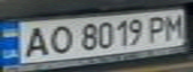0: (96, 19, 115, 49)
1: (112, 17, 133, 47)
8: (75, 20, 100, 52)
9: (127, 16, 148, 46)
A: (18, 24, 54, 58)
M: (160, 11, 190, 42)
O: (42, 22, 75, 55)
P: (145, 14, 172, 44)
